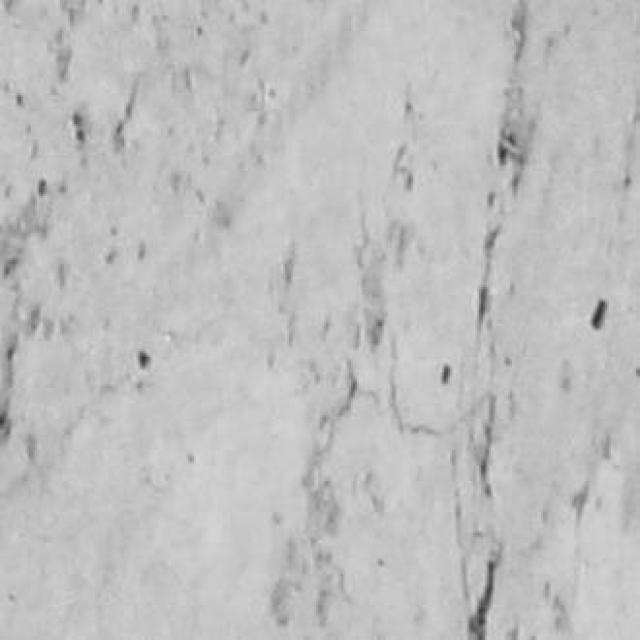crack: (468, 555, 500, 639)
